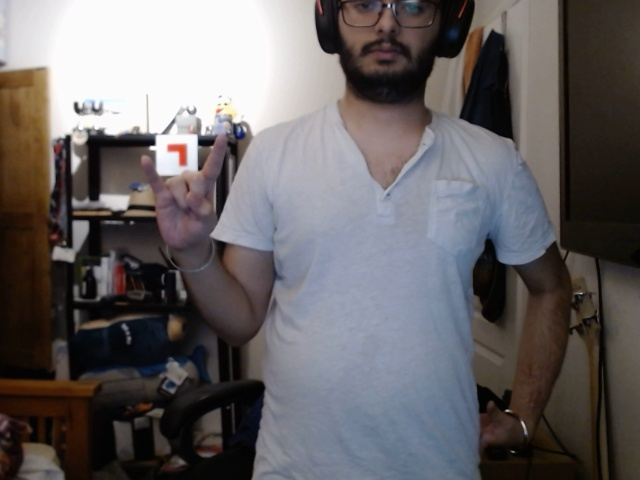Rock on: (134, 132, 235, 266)
